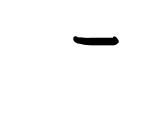minus: (73, 35, 119, 46)
